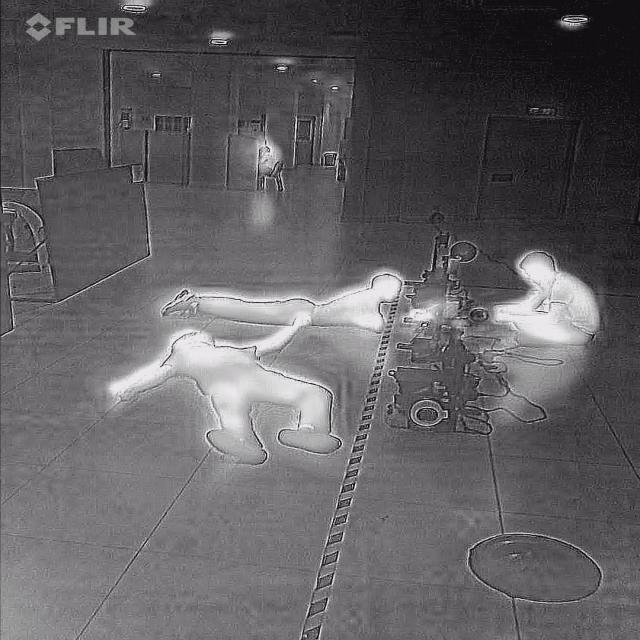Victim: (104, 248, 417, 478), (478, 240, 608, 354)
